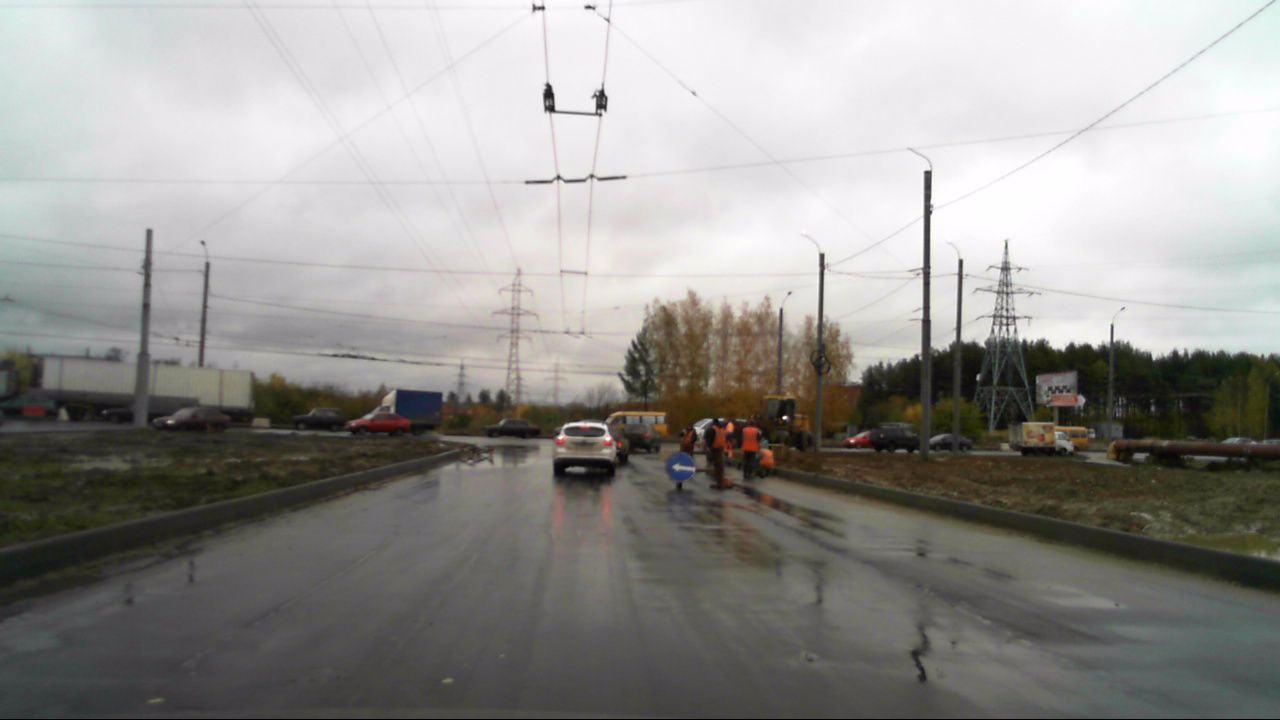Turn Left: (666, 453, 696, 482)
